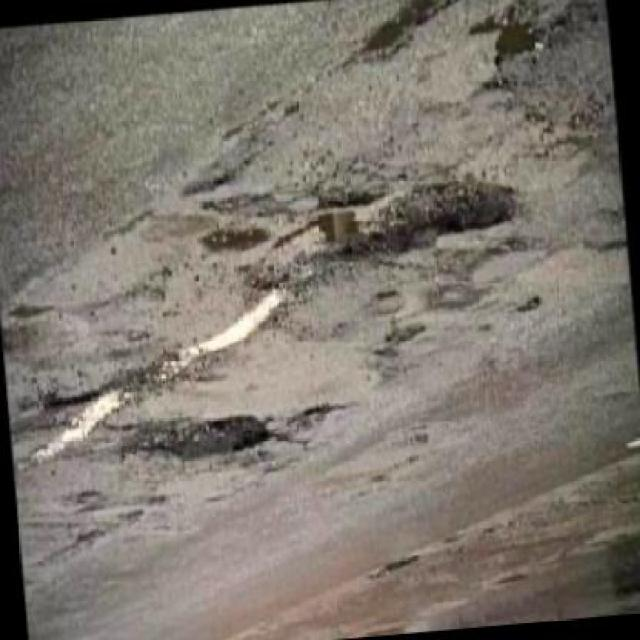pothole: (233, 168, 525, 306), (115, 406, 276, 471), (350, 0, 472, 69), (465, 0, 574, 72)
